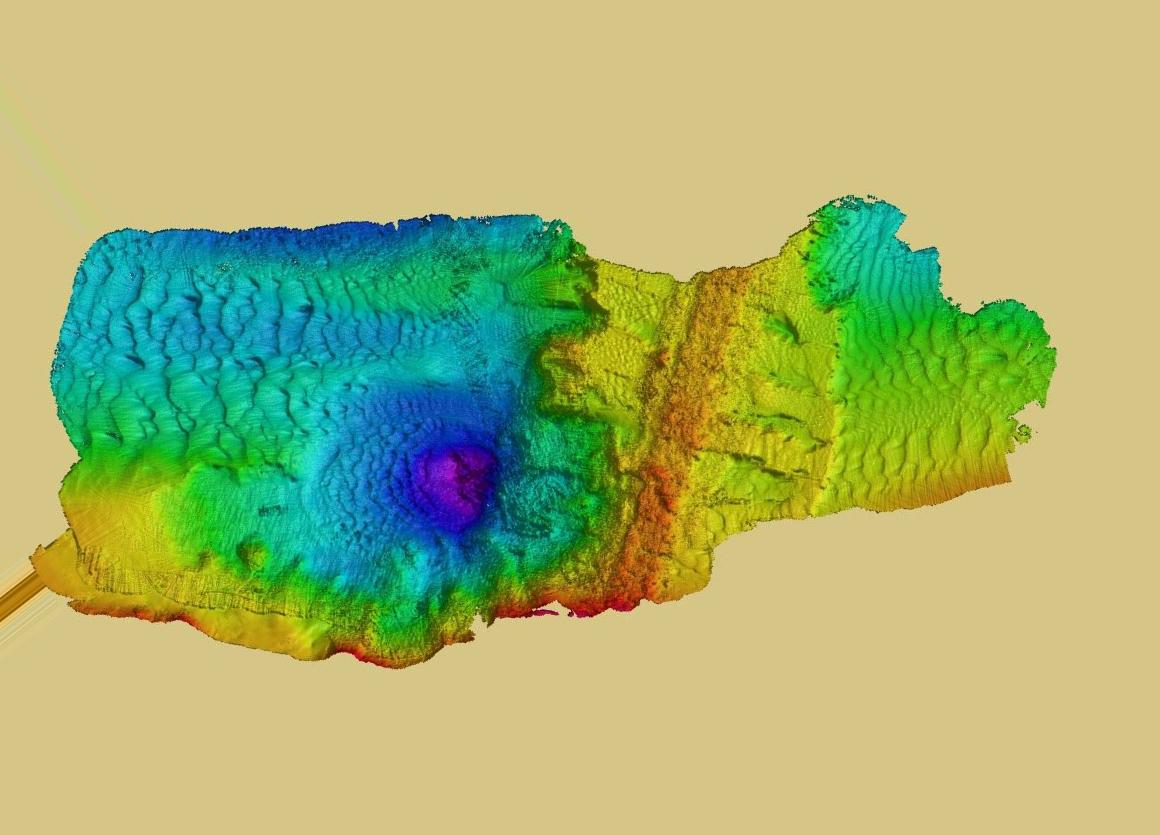Dune: (839, 195, 1077, 555), (82, 241, 400, 463), (317, 467, 402, 555)
Scarp: (260, 571, 731, 722)
Scour pit: (396, 387, 525, 550)
Submerged dike: (654, 266, 748, 597), (633, 371, 724, 639), (606, 454, 719, 661)
